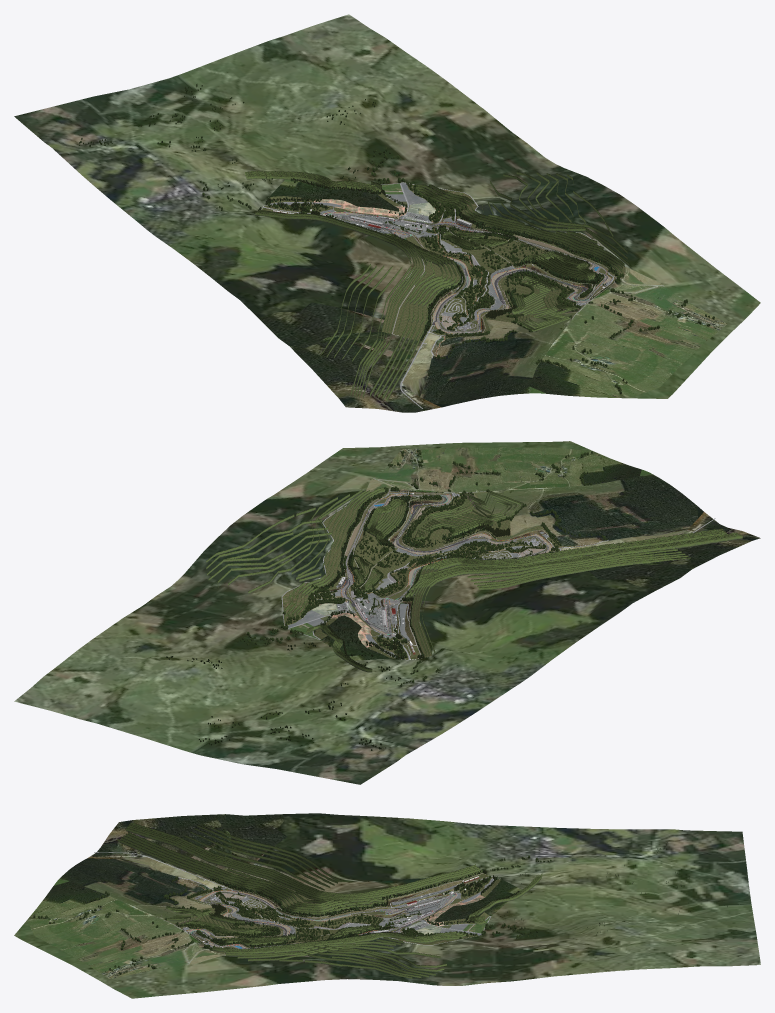
Rendered from spa.clean.glb.
The picture shows the model from 3 angles, top to bottom: view 1: azimuth 30°, elevation 25°; view 2: azimuth 150°, elevation 25°; view 3: azimuth 270°, elevation 25°; orthographic projection. The views are drawn at different scales.
Parts seen in each view (by area): view 1: Object_81, Object_92, Object_76, Object_88, Object_86, Object_49, Object_82, Object_80, Object_79; view 2: Object_81, Object_92, Object_76, Object_88, Object_86, Object_49, Object_82, Object_80, Object_79, Object_14; view 3: Object_81, Object_92, Object_88, Object_76, Object_86, Object_49, Object_82, Object_80, Object_79, Object_17, Object_23, Object_14.
Part boxes in pixels (bbox=[...]): Object_81: bbox=[14, 14, 760, 412]; Object_92: bbox=[245, 171, 629, 401]; Object_76: bbox=[262, 184, 625, 341]; Object_88: bbox=[79, 84, 714, 394]; Object_86: bbox=[258, 178, 612, 340]; Object_49: bbox=[266, 182, 613, 335]; Object_82: bbox=[263, 182, 625, 408]; Object_80: bbox=[320, 212, 621, 332]; Object_79: bbox=[335, 212, 621, 341]; Object_81: bbox=[14, 441, 760, 784]; Object_92: bbox=[206, 487, 742, 672]; Object_76: bbox=[282, 490, 586, 659]; Object_88: bbox=[166, 450, 607, 750]; Object_86: bbox=[313, 495, 577, 659]; Object_49: bbox=[287, 493, 554, 659]; Object_82: bbox=[281, 491, 715, 660]; Object_80: bbox=[341, 489, 548, 637]; Object_79: bbox=[345, 490, 547, 632]; Object_14: bbox=[336, 491, 549, 624]; Object_81: bbox=[14, 813, 760, 998]; Object_92: bbox=[117, 822, 542, 978]; Object_88: bbox=[33, 842, 727, 974]; Object_76: bbox=[179, 867, 500, 954]; Object_86: bbox=[209, 869, 520, 948]; Object_49: bbox=[183, 878, 493, 947]; Object_82: bbox=[94, 852, 493, 947]; Object_80: bbox=[187, 891, 457, 949]; Object_79: bbox=[193, 880, 449, 948]; Object_17: bbox=[188, 890, 455, 948]; Object_23: bbox=[177, 880, 454, 942]; Object_14: bbox=[183, 894, 441, 947].
Size of what is drawn, in the model's own units: 3222 by 198 by 5887.
Materials: 83 (79 with a texture image).
